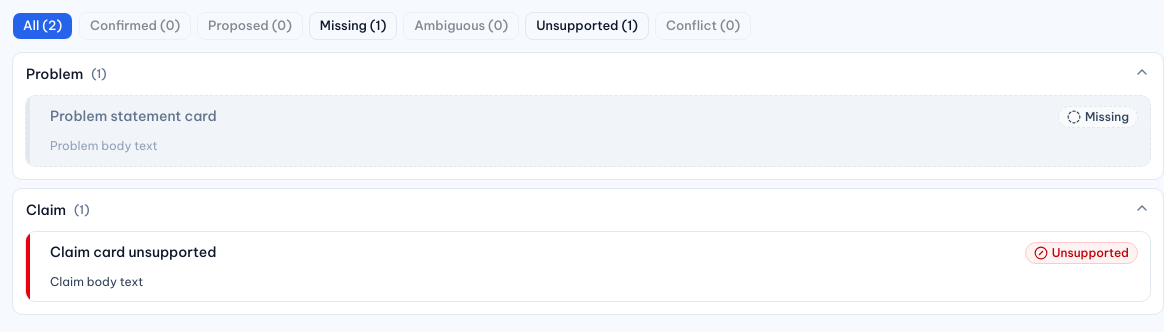
Test: CardBoard Component › filters cards by UNSUPPORTED status and hides empty groups
Click the button "Unsupported (1)" at (587, 26), box [525,12,649,40]
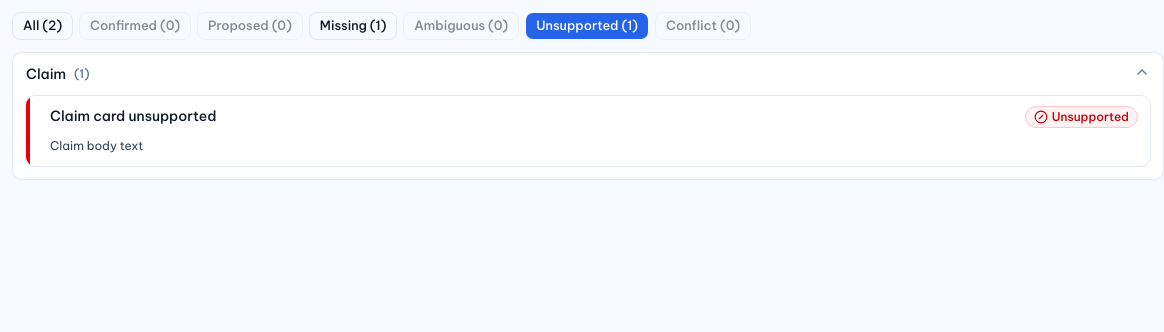
Expected: the heading "Claim card unsupported" is shown, [50,107,216,125]
Expected: the heading "Problem statement card" is gone
